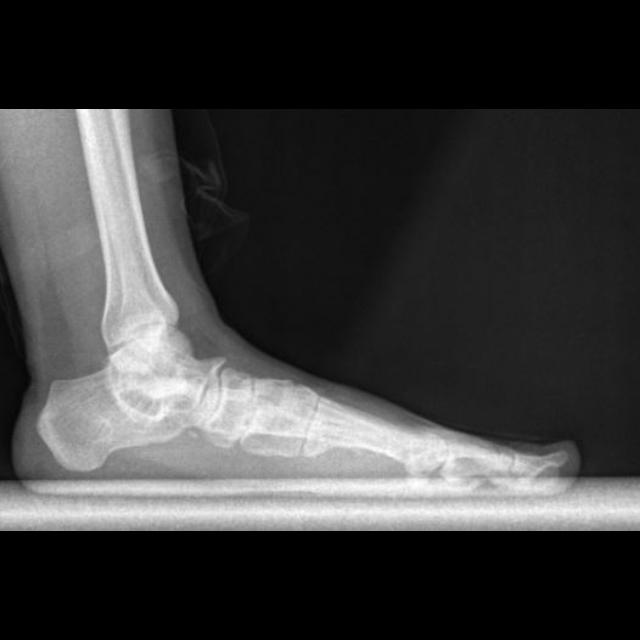a: (39, 365, 189, 472)
b: (200, 368, 253, 448)
c: (301, 396, 447, 475)
